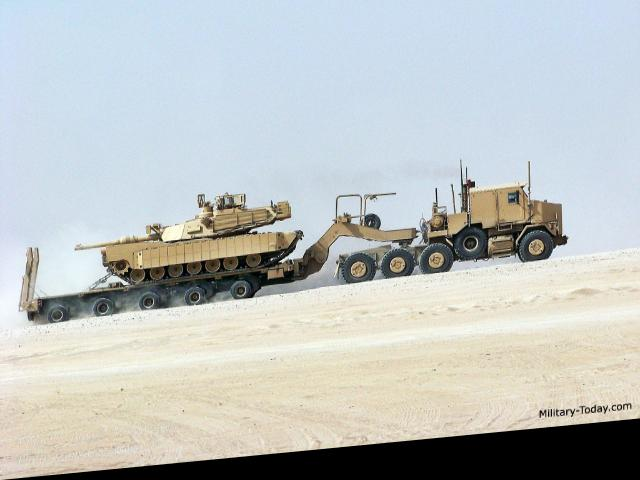tank: (96, 196, 298, 280)
